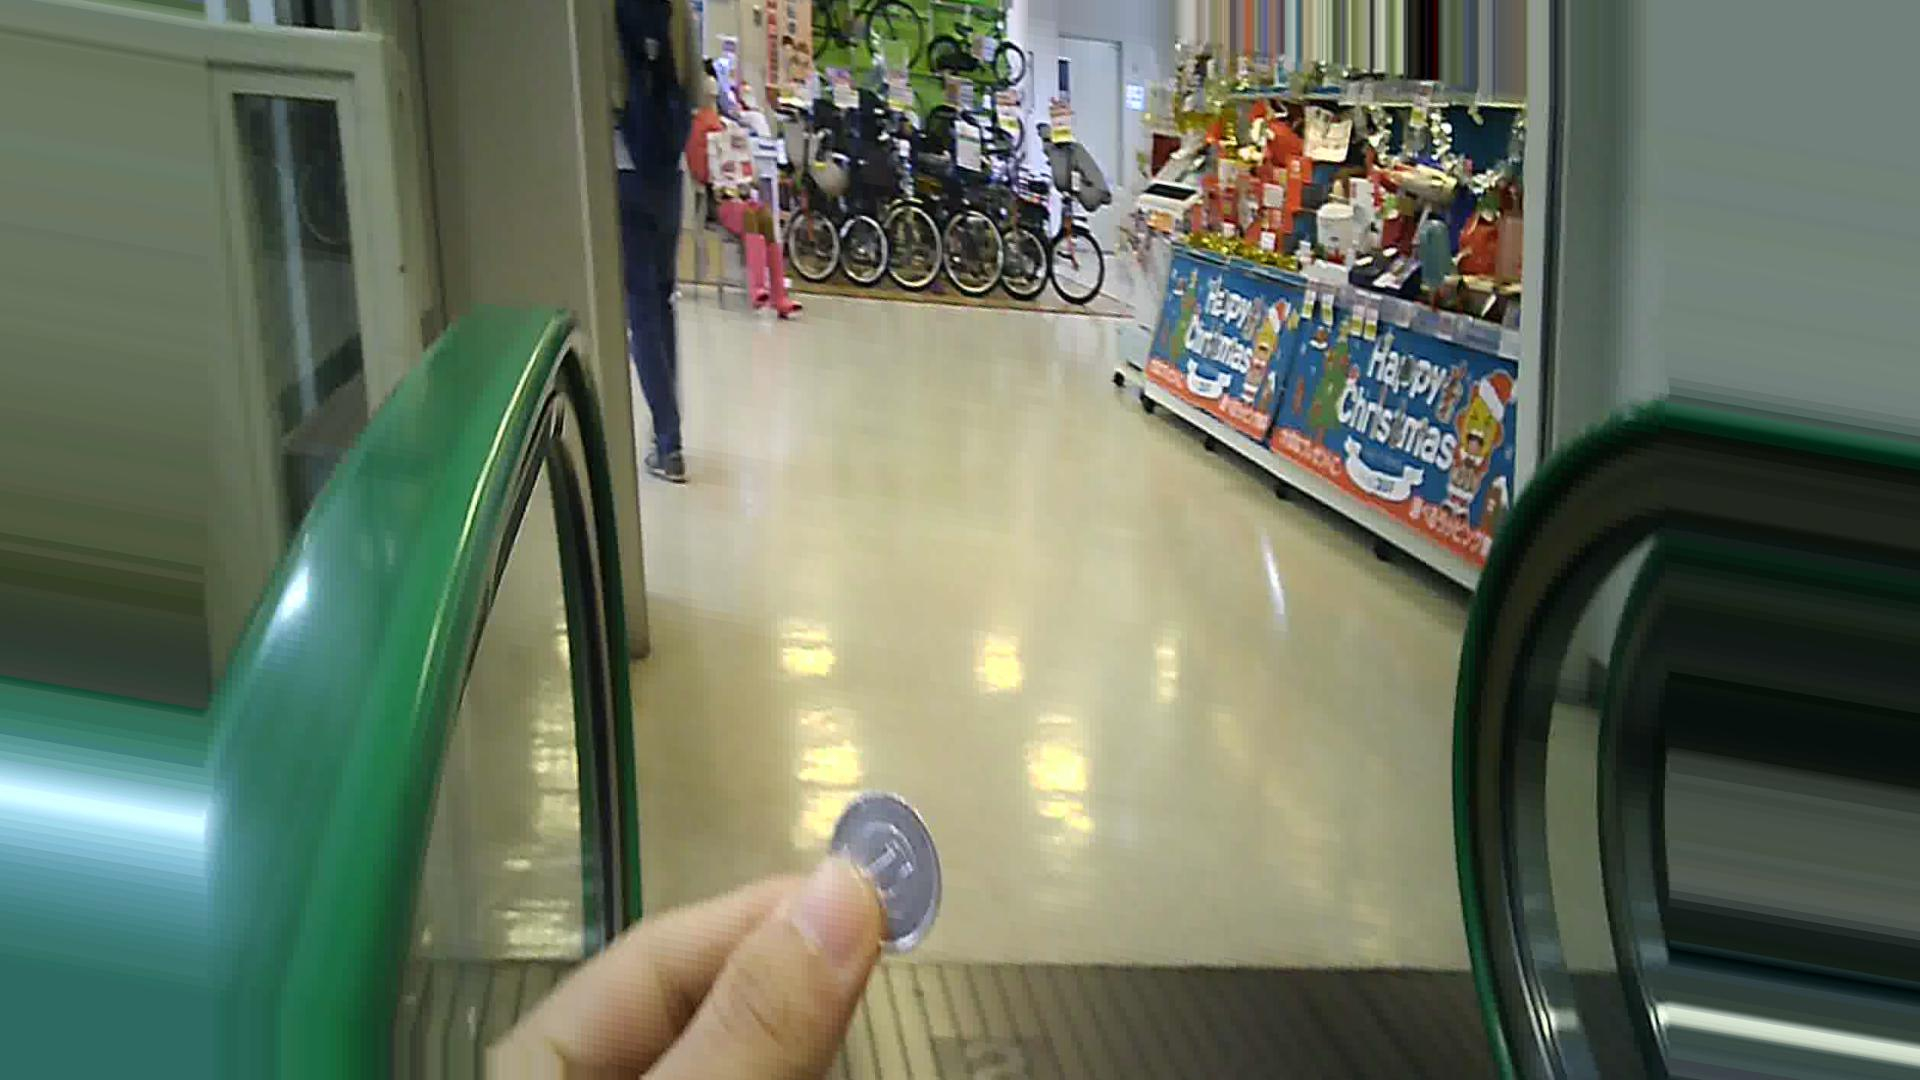1 Yen: (808, 794, 961, 967)
